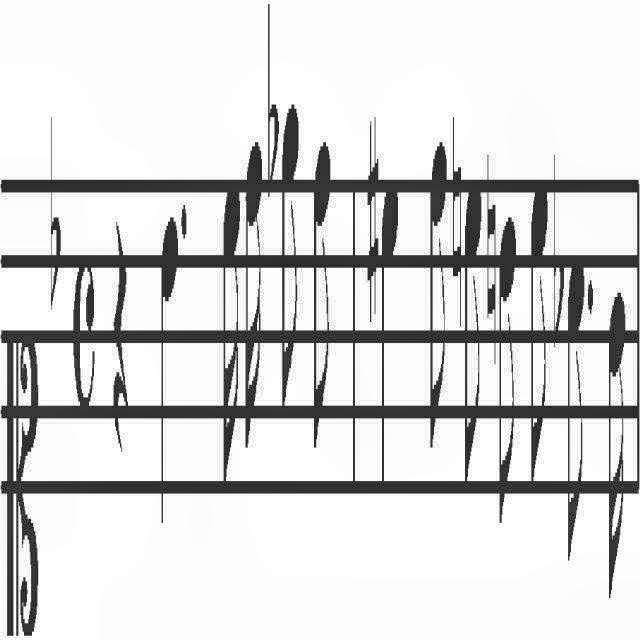Bemol: (262, 0, 279, 204), (46, 110, 62, 320), (552, 148, 564, 352)
Diez: (366, 98, 380, 312)
Eighth-note: (310, 112, 334, 464), (528, 154, 550, 510), (428, 112, 448, 454), (463, 152, 483, 476), (282, 91, 298, 422), (568, 245, 584, 550), (500, 201, 514, 521)
Quarter-note: (160, 185, 180, 538), (381, 151, 399, 485)
Quarter-rest: (108, 210, 132, 478)
Sixteenth-note: (608, 278, 632, 602), (242, 122, 262, 474), (221, 164, 239, 490)
